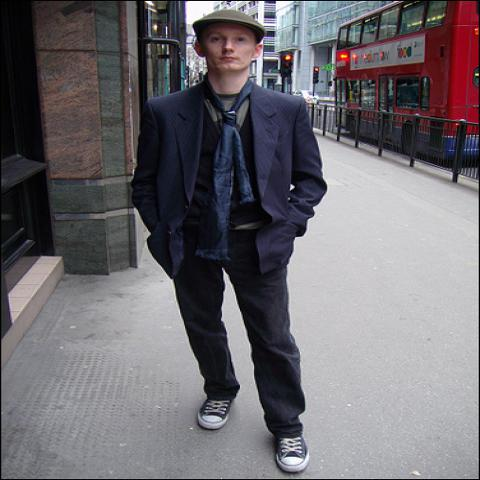bus: (332, 0, 479, 163)
